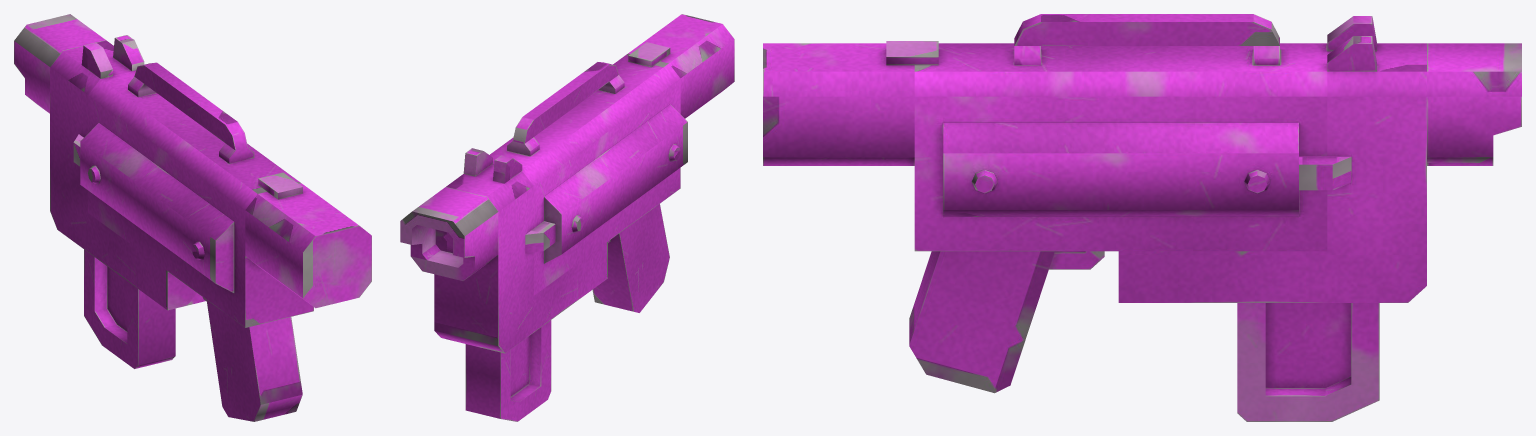
Rendered from blaster-a.glb.
The picture shows the model from 3 angles, left to right: view 1: azimuth 30°, elevation 25°; view 2: azimuth 150°, elevation 25°; view 3: azimuth 270°, elevation 25°; orthographic projection. The views are drawn at different scales.
Visible parts, largest first — view 1: blaster-a, magazine; view 2: blaster-a, magazine; view 3: blaster-a, magazine.
Boxes of the visible parts, left/top/right/bottom form: blaster-a: left=14, top=14, right=371, bottom=421; magazine: left=84, top=249, right=175, bottom=368; blaster-a: left=400, top=14, right=734, bottom=353; magazine: left=465, top=320, right=551, bottom=421; blaster-a: left=763, top=14, right=1521, bottom=393; magazine: left=1237, top=303, right=1379, bottom=421.
Bounding box in the file's own units: 0.1838 × 0.4559 × 0.8.
1 material, 1 textured.
